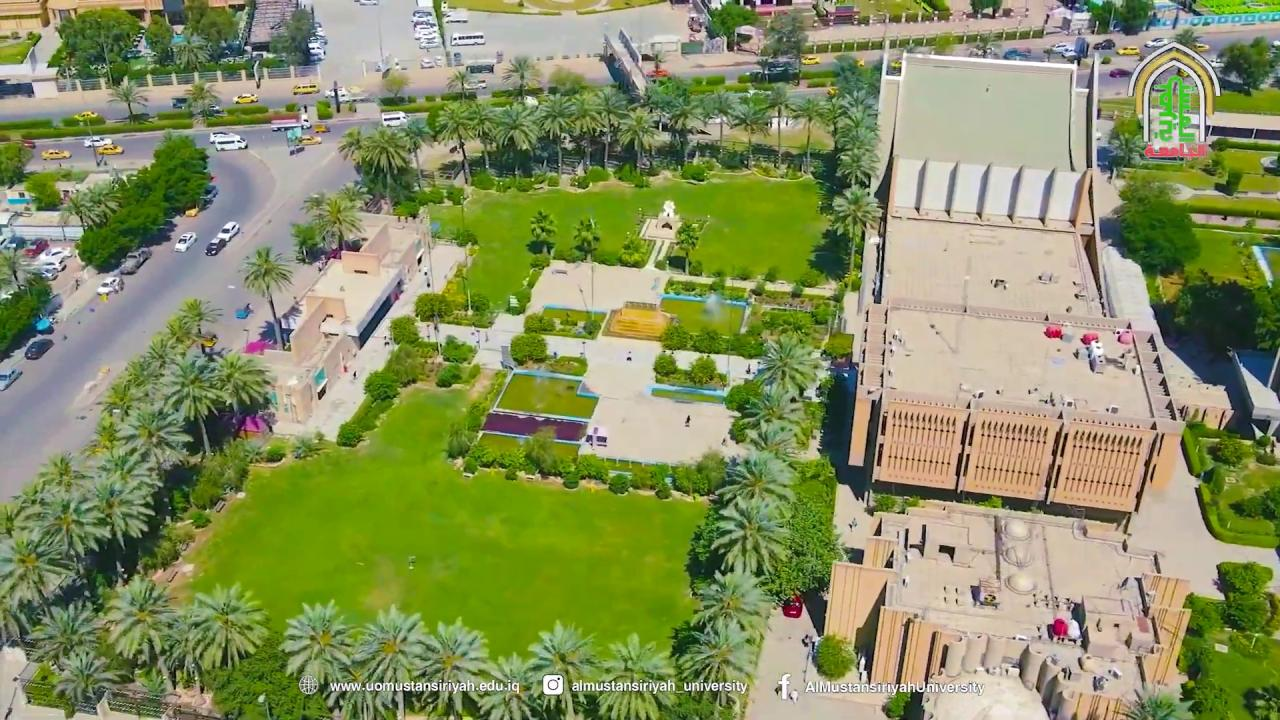car: (205, 221, 240, 256), (120, 247, 152, 274), (25, 338, 53, 360), (96, 276, 124, 296), (215, 134, 247, 150), (173, 231, 197, 252), (0, 369, 22, 390), (381, 111, 409, 127), (218, 221, 240, 241), (324, 87, 352, 101), (1003, 47, 1031, 60), (34, 315, 53, 334), (1260, 156, 1280, 174), (83, 136, 112, 148), (291, 83, 319, 95), (466, 62, 495, 73), (209, 130, 233, 143), (41, 149, 72, 159), (97, 144, 125, 155), (645, 69, 669, 81), (886, 58, 902, 76), (462, 79, 487, 90), (1144, 37, 1168, 48), (688, 15, 704, 31), (203, 184, 218, 201), (298, 134, 321, 145), (233, 93, 258, 103), (1092, 39, 1114, 50), (1109, 67, 1131, 78), (1116, 45, 1139, 55), (171, 96, 188, 109), (206, 105, 226, 116), (121, 49, 142, 59), (801, 54, 820, 65), (522, 95, 538, 108), (74, 111, 97, 120), (1209, 57, 1225, 69), (1191, 42, 1209, 52), (20, 139, 36, 148), (827, 84, 838, 96), (354, 0, 378, 5)
fountain: (504, 371, 594, 420), (478, 436, 584, 470), (663, 296, 746, 334), (536, 306, 606, 334)
person: (857, 650, 867, 683)
tree: (1, 295, 274, 715), (668, 331, 846, 718), (422, 62, 879, 185), (60, 133, 212, 271), (101, 573, 181, 690), (349, 603, 428, 719), (669, 617, 758, 718), (1116, 178, 1200, 278), (0, 532, 75, 643), (411, 616, 490, 719), (83, 449, 161, 550), (182, 582, 269, 672), (53, 5, 142, 88), (526, 618, 599, 718), (158, 356, 228, 456), (278, 598, 354, 688), (707, 494, 789, 576), (595, 631, 668, 719), (783, 497, 848, 594), (237, 244, 294, 349), (691, 569, 769, 645), (728, 386, 811, 455), (116, 403, 193, 475), (828, 183, 883, 277), (27, 600, 100, 668), (149, 133, 210, 211), (51, 647, 121, 714), (720, 450, 794, 511), (756, 332, 817, 403), (833, 96, 880, 187), (1238, 249, 1279, 353), (476, 651, 538, 719), (355, 126, 410, 202), (486, 101, 538, 180), (433, 99, 481, 184), (212, 350, 269, 415), (181, 1, 240, 63), (534, 90, 576, 176), (1219, 33, 1273, 96), (590, 85, 630, 170), (57, 181, 122, 232), (728, 93, 771, 168), (786, 96, 827, 173), (315, 195, 365, 255), (568, 87, 603, 172), (759, 83, 794, 167), (704, 1, 758, 52), (74, 224, 133, 270), (699, 87, 740, 152), (618, 110, 658, 176), (450, 227, 480, 313), (413, 292, 453, 354), (1178, 674, 1230, 719), (761, 9, 807, 59), (813, 632, 857, 682), (1108, 110, 1146, 167), (105, 75, 149, 124), (834, 145, 879, 188), (672, 218, 705, 275), (176, 296, 223, 336), (401, 121, 428, 190), (1122, 687, 1180, 719), (500, 55, 540, 99), (521, 426, 556, 475), (182, 80, 219, 126), (171, 34, 211, 74), (143, 13, 173, 66), (0, 142, 33, 187), (289, 221, 324, 263), (1212, 433, 1254, 468), (509, 331, 548, 367), (528, 207, 556, 256), (571, 216, 600, 261), (1116, 0, 1153, 35), (617, 228, 650, 267), (362, 369, 399, 402), (412, 292, 450, 322), (388, 315, 420, 348), (687, 354, 719, 386), (881, 688, 911, 718), (445, 67, 470, 101), (382, 69, 409, 100), (336, 420, 366, 447), (652, 350, 677, 382), (315, 99, 333, 120)
